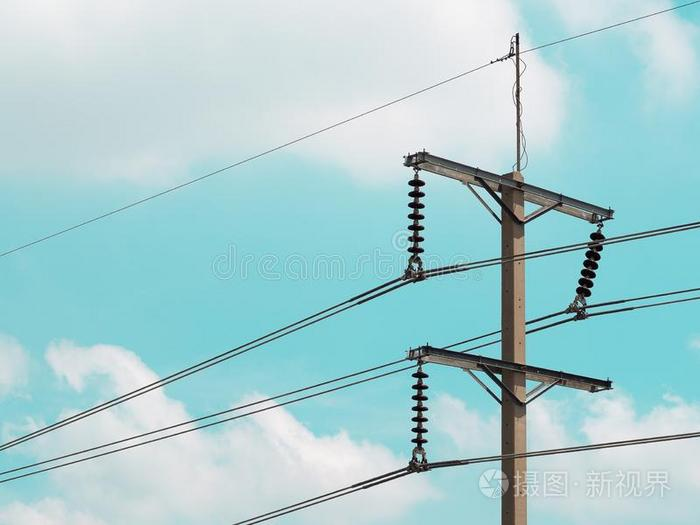insulator: (403, 176, 428, 257), (577, 229, 606, 296), (408, 368, 431, 450)
